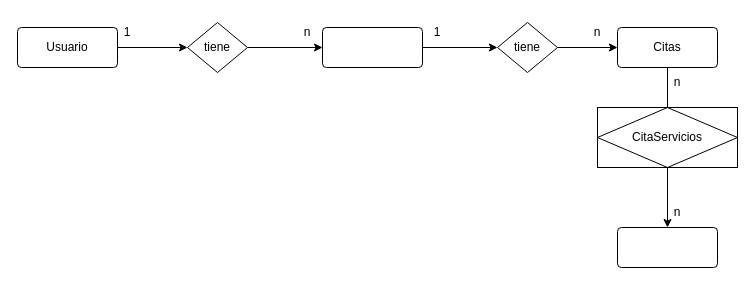
Some shapes in this 755 by 285 pixel diagram are drawn without their labels. The shapes that lost their labels are listed below. From the top down, each one's box as (x1, y1, x2, y2) in pixels, then its label:
(322, 26, 422, 68): Mascota
(616, 226, 718, 268): Servicios
